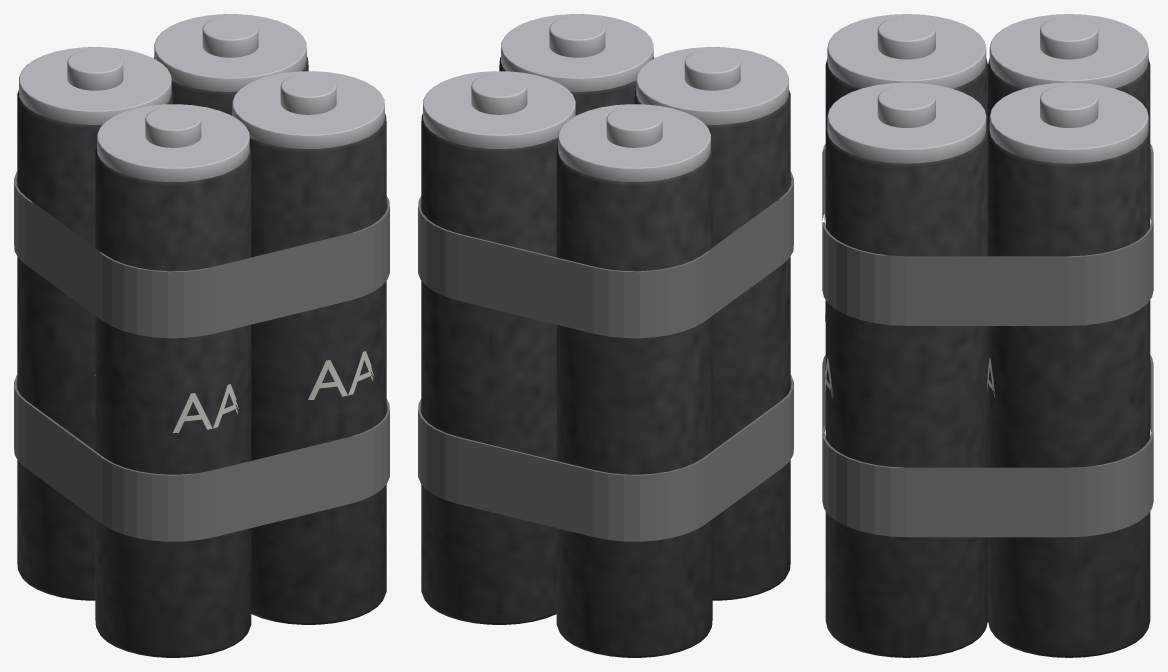
File: BatteryPackSmall-v1.fbx
3 views of the same model, side by side, from view 1: azimuth 30°, elevation 25°; view 2: azimuth 150°, elevation 25°; view 3: azimuth 270°, elevation 25° (orthographic). The views are drawn at different scales.
Visible parts, largest first — view 1: PW_BatteryPackSmall; view 2: PW_BatteryPackSmall; view 3: PW_BatteryPackSmall.
Part boxes in pixels (x1,y1,x2,y2): PW_BatteryPackSmall: [14, 14, 389, 657]; PW_BatteryPackSmall: [418, 14, 793, 657]; PW_BatteryPackSmall: [822, 14, 1153, 657].
Size of the model in its own units: 2.86 by 5.03 by 2.86.
Materials: 1 (1 with a texture image).
